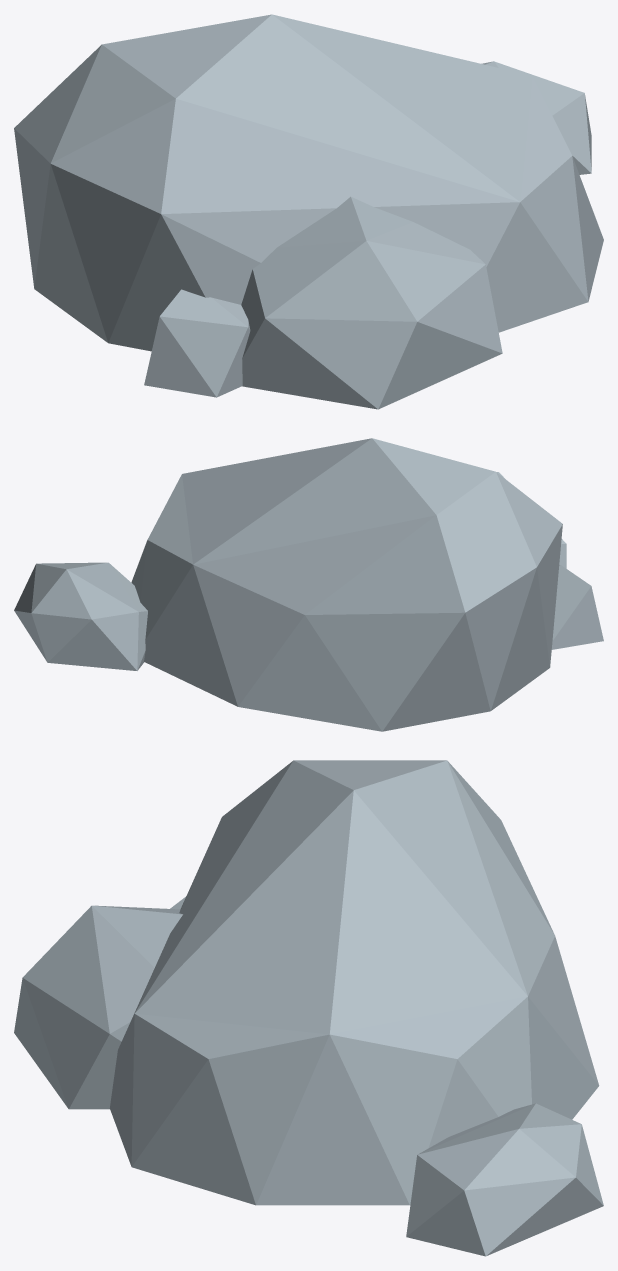
The model's file is Rock_15.fbx.
The picture shows the model from 3 angles, top to bottom: view 1: azimuth 30°, elevation 25°; view 2: azimuth 150°, elevation 25°; view 3: azimuth 270°, elevation 25°; orthographic projection. The views are drawn at different scales.
Visible parts, largest first — view 1: Icosphere.001; view 2: Icosphere.001; view 3: Icosphere.001.
Boxes of the visible parts, x1,y1,x2,y2 form: Icosphere.001: (14, 14, 603, 409); Icosphere.001: (14, 438, 603, 731); Icosphere.001: (14, 760, 603, 1256).
Bounding box in the file's own units: 3.62 × 1.52 × 2.99.
